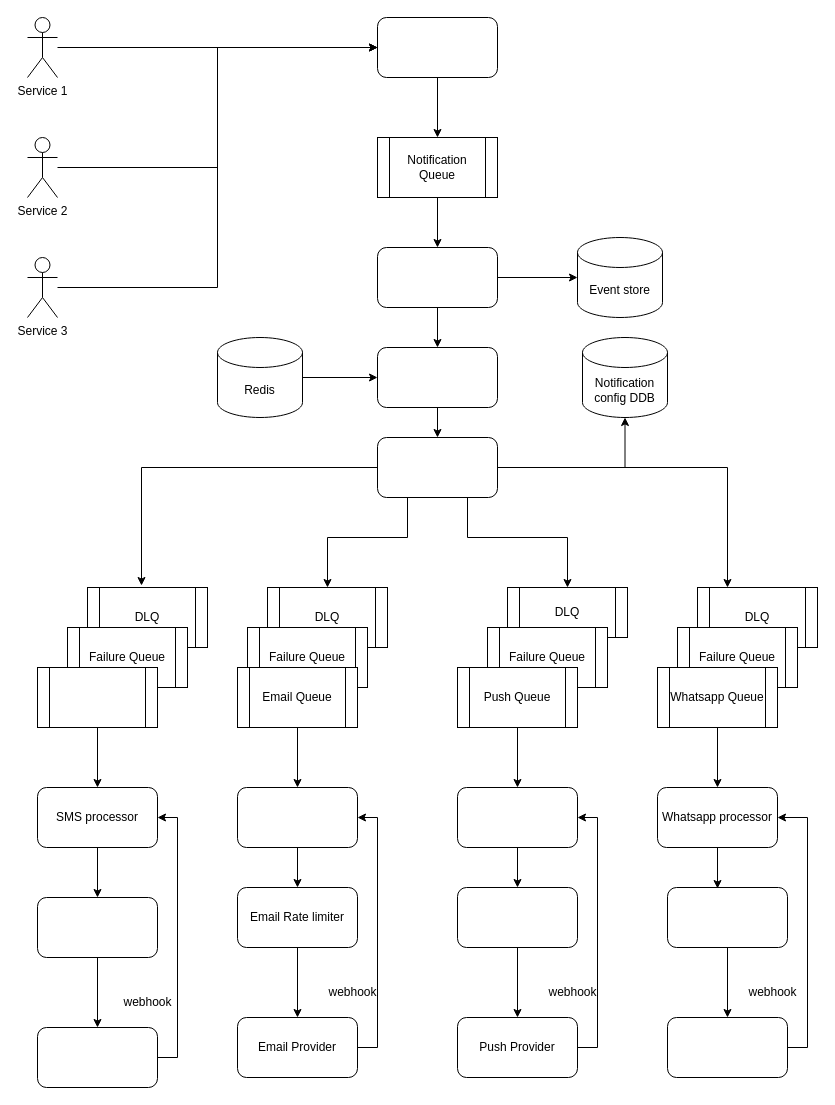
Some shapes in this 835 by 1105 pixel diagram are drawn without their labels. The centre of each missing label's shape, as x and y in pixels:
Dedup layer: the point at 437,277
Email processor: the point at 297,817
Notification consumer: the point at 437,47
Notification processor: the point at 437,467
Push processor: the point at 517,817
Push Rate limiter: the point at 517,917
Rate limiter: the point at 437,377
SMS Provider: the point at 97,1057
SMS Queue: the point at 97,697
SMS Rate limiter: the point at 97,927
Whatsapp Provider: the point at 727,1047
Whatsapp Rate limiter: the point at 727,917
